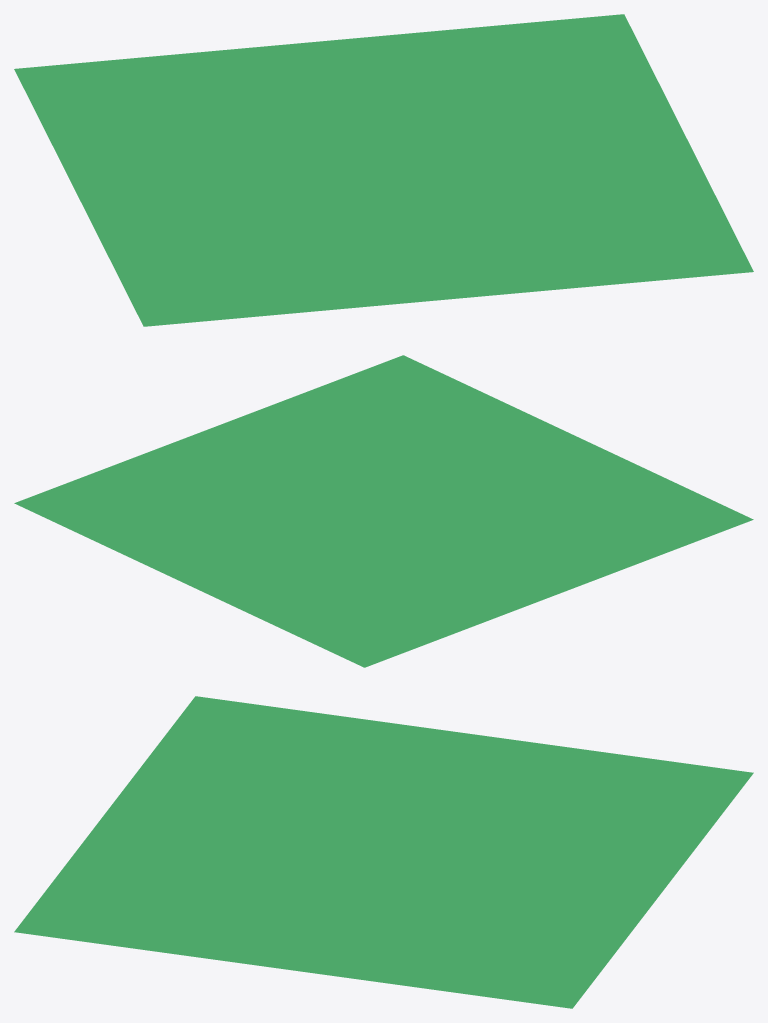
File: Close_Elevator_Floor.fbx
The picture shows the model from 3 angles, top to bottom: view 1: azimuth 30°, elevation 25°; view 2: azimuth 150°, elevation 25°; view 3: azimuth 270°, elevation 25°; orthographic projection. The views are drawn at different scales.
Parts seen in each view (by area): view 1: Close_Elevator_Floor_low; view 2: Close_Elevator_Floor_low; view 3: Close_Elevator_Floor_low.
Part boxes in pixels (<box>): Close_Elevator_Floor_low: <box>14,14,753,326</box>; Close_Elevator_Floor_low: <box>14,355,753,667</box>; Close_Elevator_Floor_low: <box>14,696,753,1008</box>.
Size of the model in its own units: 497 by 0.00928 by 497.
